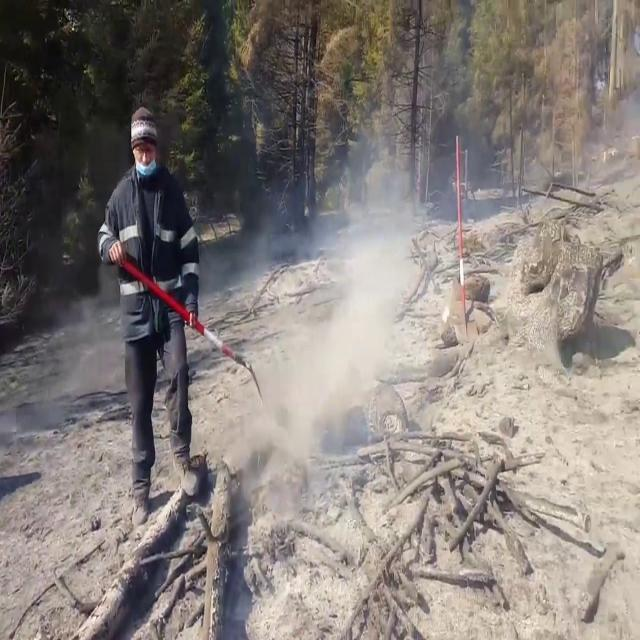Smoke: (200, 110, 428, 538)
